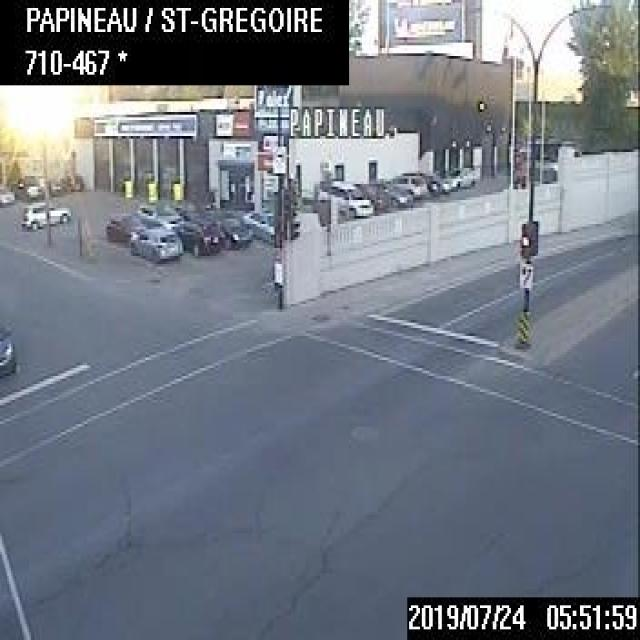vehicle: (129, 215, 184, 262), (314, 177, 372, 216), (173, 211, 220, 253), (20, 199, 70, 230), (214, 210, 251, 251), (103, 211, 145, 244), (136, 200, 180, 228), (245, 205, 274, 245), (373, 175, 413, 204), (442, 162, 478, 187), (397, 168, 426, 196), (0, 326, 15, 374), (417, 169, 442, 194), (0, 182, 15, 206)
